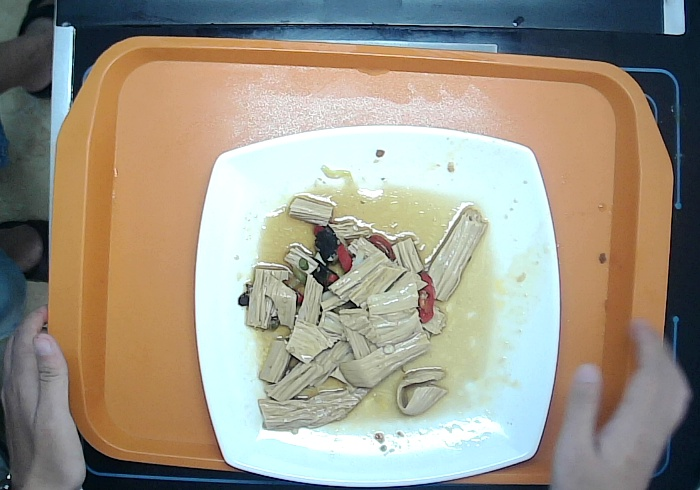ZNLD-Bai_Fang_Pan: (191, 122, 563, 490)
